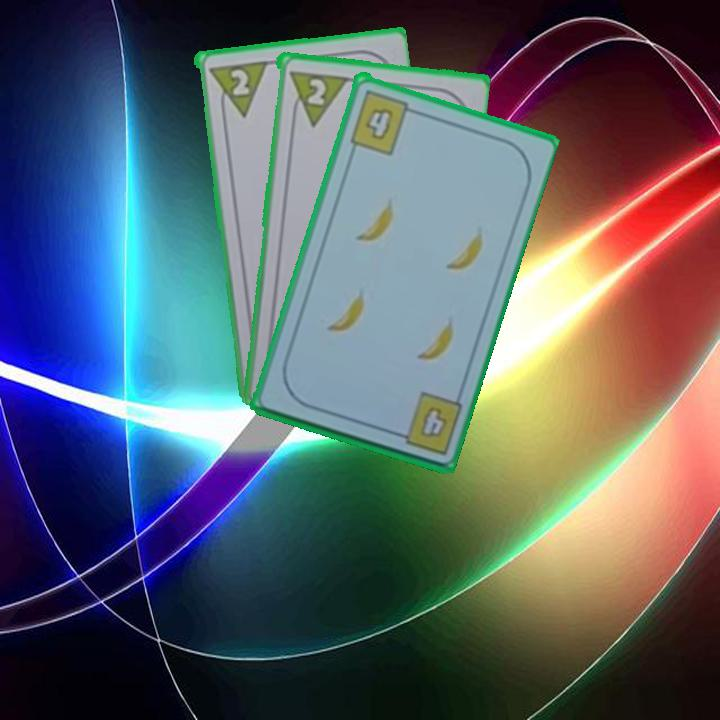2p: (285, 66, 348, 129), (226, 65, 252, 98)
4b: (387, 388, 465, 458), (346, 85, 420, 157)
